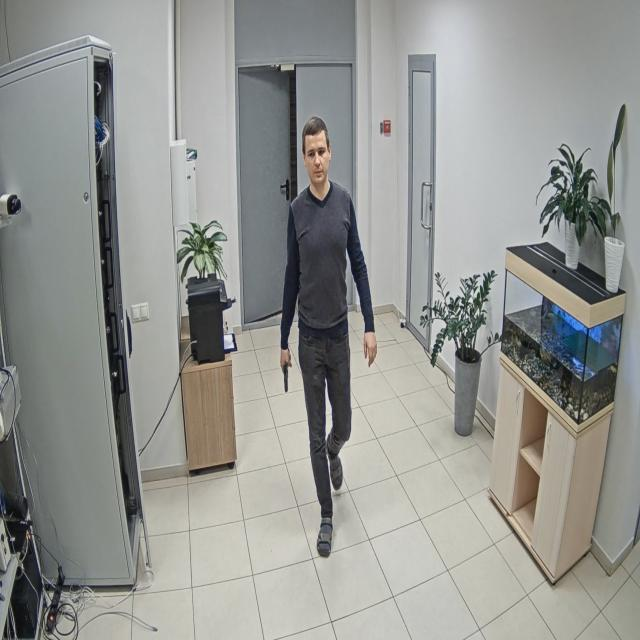-Gun: (284, 362, 288, 392)
